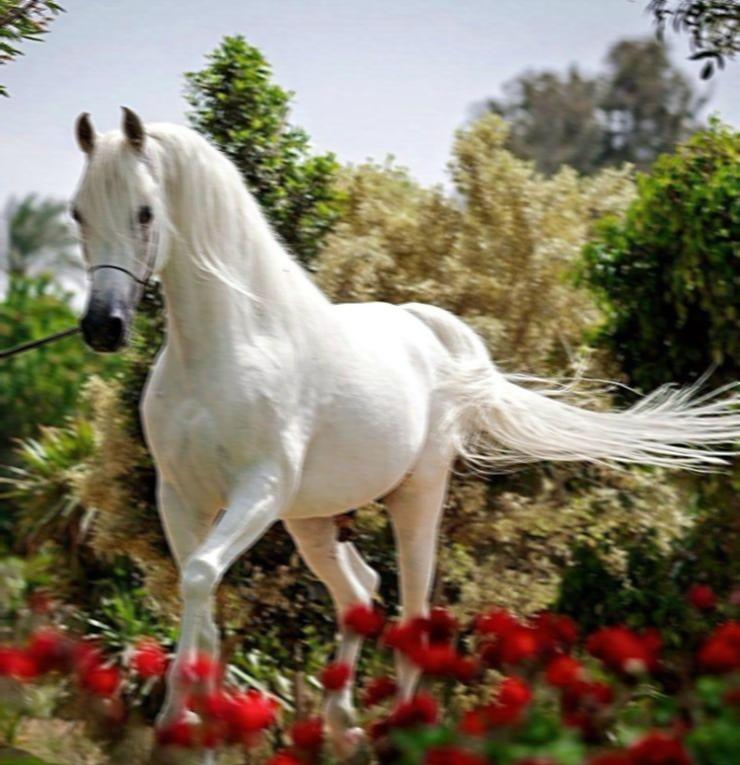horse: (67, 104, 738, 763)
